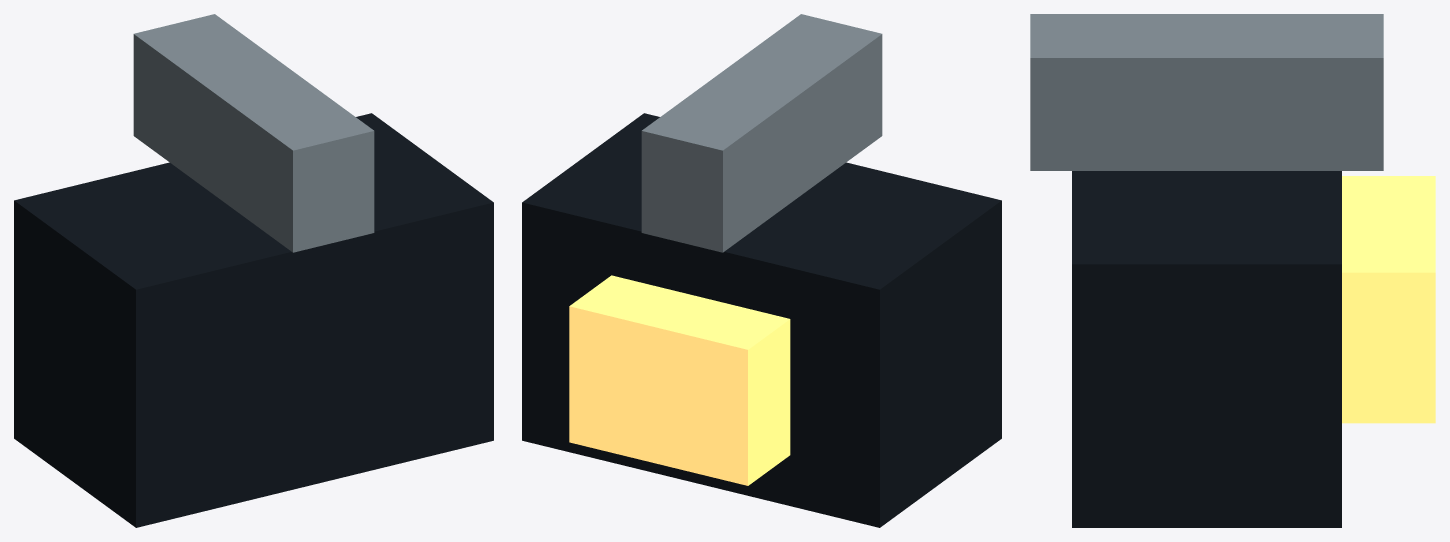
Rendered from np_z06_composant_relais.glb.
The picture shows the model from 3 angles, left to right: view 1: azimuth 30°, elevation 25°; view 2: azimuth 150°, elevation 25°; view 3: azimuth 270°, elevation 25°; orthographic projection. The views are drawn at different scales.
Visible parts, largest first — view 1: Boitier, Poignee; view 2: Boitier, Noyau, Poignee; view 3: Boitier, Poignee, Noyau.
Part boxes in pixels (bbox=[...]): Boitier: bbox=[14, 113, 493, 527]; Poignee: bbox=[133, 14, 374, 252]; Boitier: bbox=[522, 113, 1001, 527]; Noyau: bbox=[569, 275, 790, 485]; Poignee: bbox=[641, 14, 882, 252]; Boitier: bbox=[1072, 171, 1341, 527]; Poignee: bbox=[1030, 14, 1383, 170]; Noyau: bbox=[1342, 176, 1435, 423].
Size of the model in its own units: 0.44 by 0.42 by 0.39.
